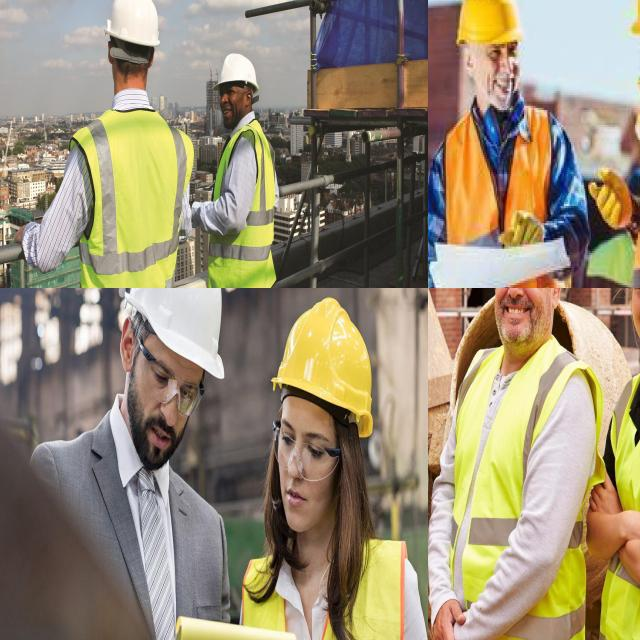No_Ear-Protection: (118, 314, 136, 374), (549, 288, 564, 312), (243, 87, 254, 109)
No_Glasses: (218, 84, 238, 101)
face_nomask: (124, 310, 206, 468), (268, 384, 350, 537), (456, 38, 530, 118), (484, 288, 555, 357)
glasses: (270, 417, 341, 484), (139, 347, 204, 419)
hand_glove: (591, 155, 638, 246), (504, 202, 553, 270), (622, 73, 640, 165)
hand_noglove: (583, 462, 626, 537), (428, 599, 473, 640)
head_helmet: (271, 288, 373, 432), (117, 288, 223, 376), (450, 0, 522, 42), (104, 0, 160, 49), (211, 53, 260, 93)
person: (239, 288, 428, 640), (54, 288, 233, 640), (446, 288, 599, 640), (434, 0, 579, 288), (73, 4, 193, 288), (199, 56, 284, 288), (598, 288, 640, 640)
vest: (449, 336, 591, 640), (435, 106, 585, 288), (70, 106, 190, 288), (234, 540, 416, 640), (596, 349, 640, 640), (206, 121, 280, 288)
